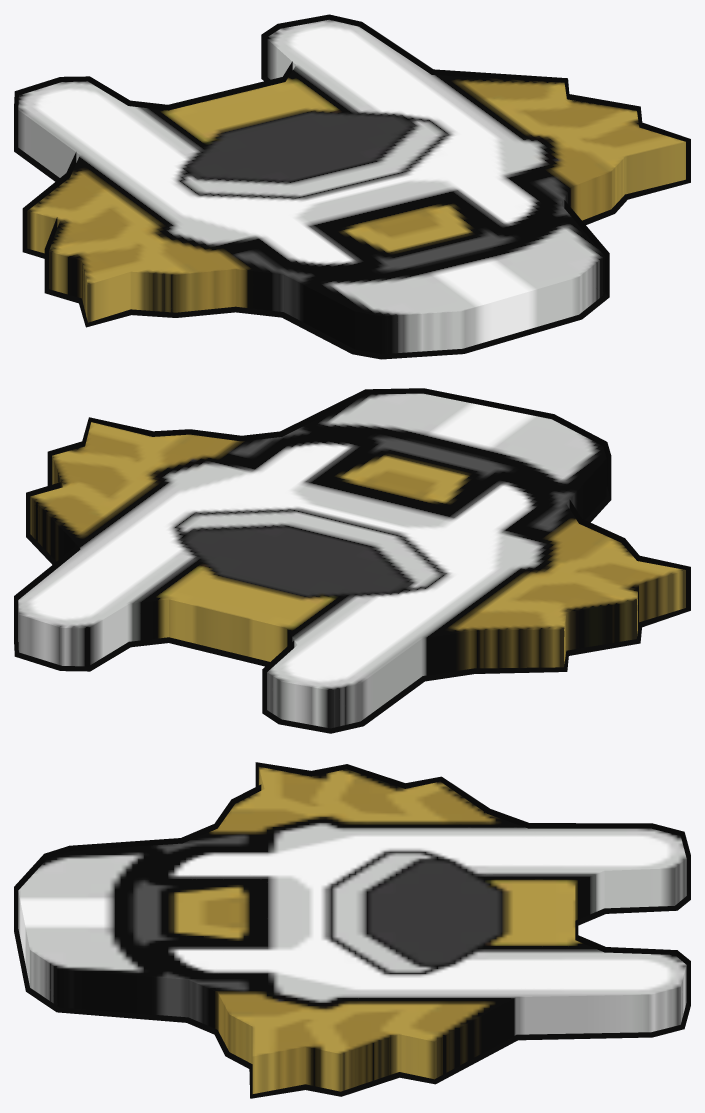
File: Item_Apparel_ArmorCataphractPrestige_Things_Pawn_Humanlike_Apparel_PrestigeCataphractArmor_PrestigeCataphractArmor.glb
3 renders of one model, top to bottom at view 1: azimuth 30°, elevation 25°; view 2: azimuth 150°, elevation 25°; view 3: azimuth 270°, elevation 25°, orthographic.
Parts seen in each view (by area): view 1: Body, Outline; view 2: Body, Outline; view 3: Body, Outline.
Boxes of the visible parts, <box> form: Body: <box>18,19,685,353</box>; Outline: <box>14,14,690,359</box>; Body: <box>18,393,685,728</box>; Outline: <box>14,388,690,733</box>; Body: <box>18,767,686,1093</box>; Outline: <box>14,762,690,1098</box>.
Bounding box in the file's own units: 0.9247 × 0.0686 × 0.9023.
Materials: 2 (1 with a texture image).
